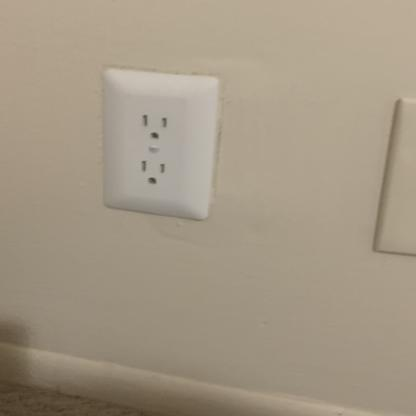OUTLET: (102, 66, 216, 221)
